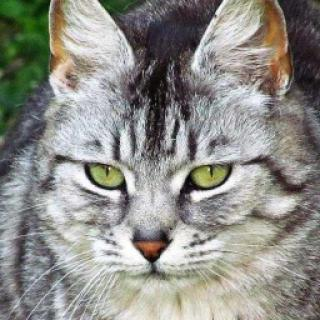cat: (42, 0, 290, 292)
nose: (122, 218, 175, 268)
